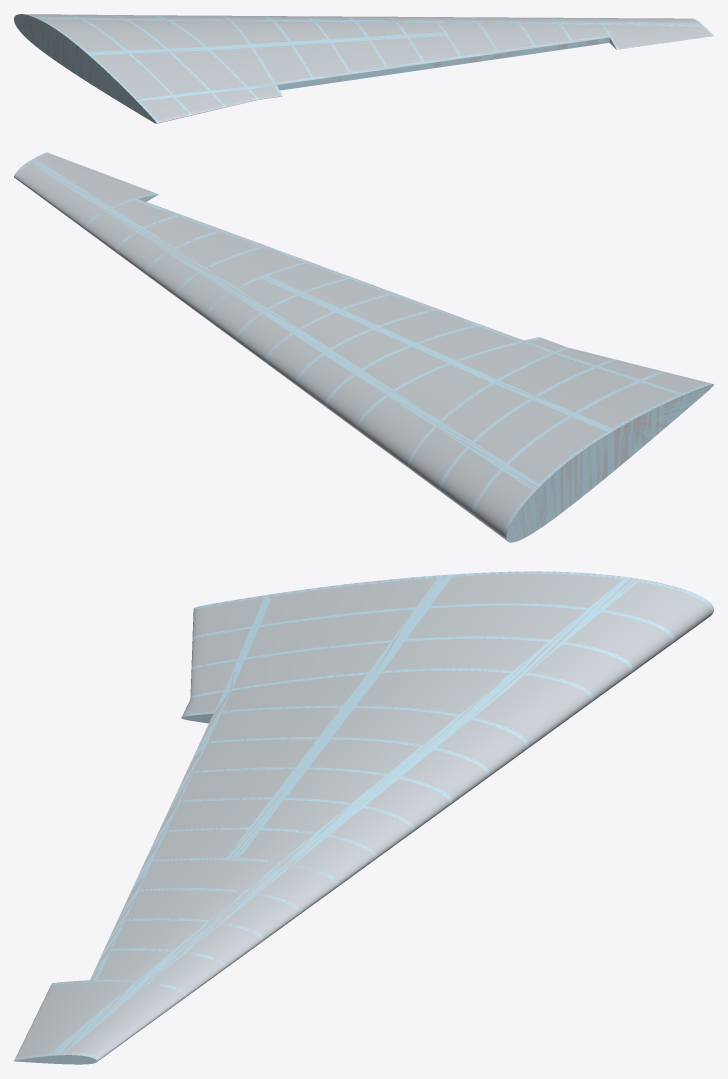
The model's file is ribs-nontransparent.gltf.
3 renders of one model, top to bottom at view 1: azimuth 30°, elevation 25°; view 2: azimuth 150°, elevation 25°; view 3: azimuth 270°, elevation 25°, orthographic. The views are drawn at different scales.
Parts seen in each view (by area): view 1: Part 1, Wing Structure; view 2: Part 1, Wing Structure; view 3: Part 1, Wing Structure.
Boxes of the visible parts, box(x1,y1,x2,y2) form: Part 1: box(14, 14, 712, 123); Wing Structure: box(14, 14, 713, 123); Part 1: box(14, 153, 713, 541); Wing Structure: box(14, 152, 713, 542); Part 1: box(14, 571, 713, 1064); Wing Structure: box(14, 571, 713, 1064).
Bounding box in the file's own units: 10 × 0.6082 × 6.55.
